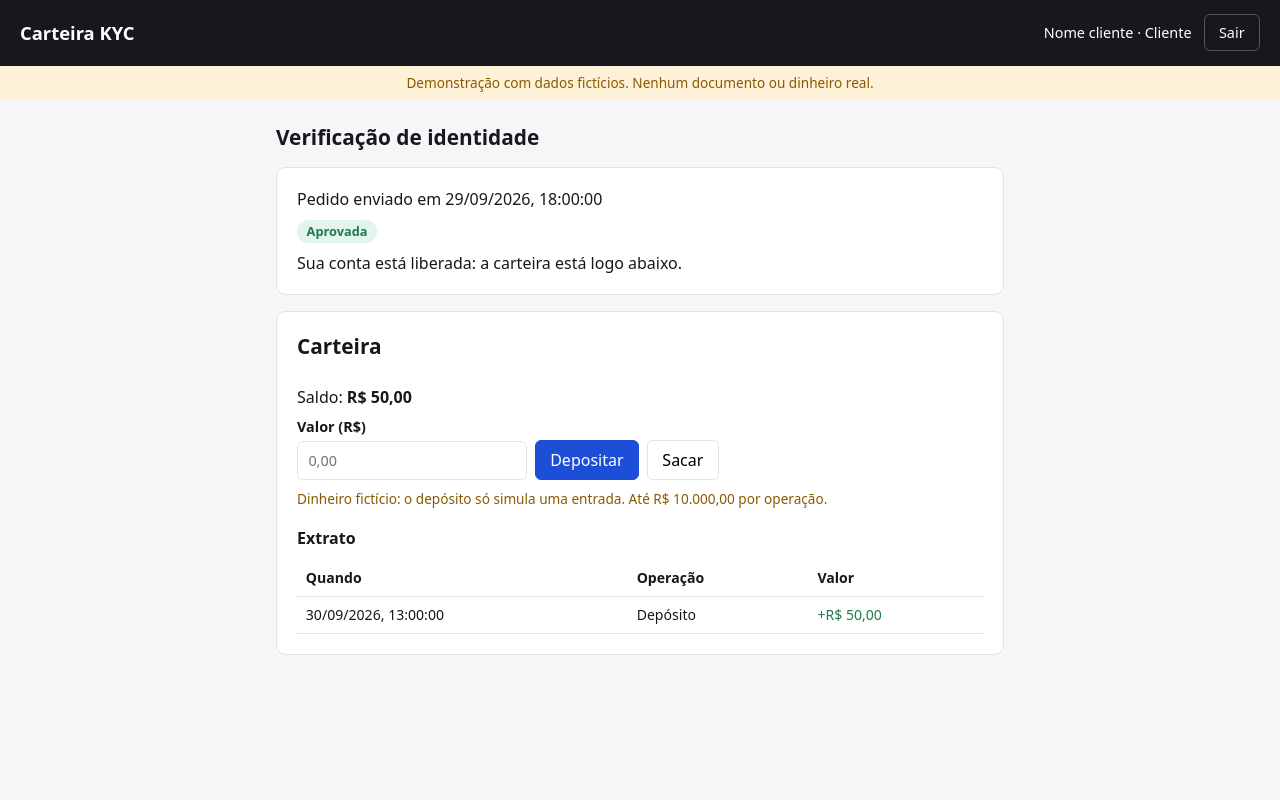
Scenario: carteira › mostra saldo e extrato, deposita com chave de idempotência e atualiza
Expected: the text with test id "saldo" shows "50,00", left=347, top=386, right=412, bottom=408
Expected: the text "Depósito" is shown, left=628, top=596, right=808, bottom=634
Type "25,50" into the field labelled "Valor (R$)" at (412, 460), box left=297, top=441, right=527, bottom=480
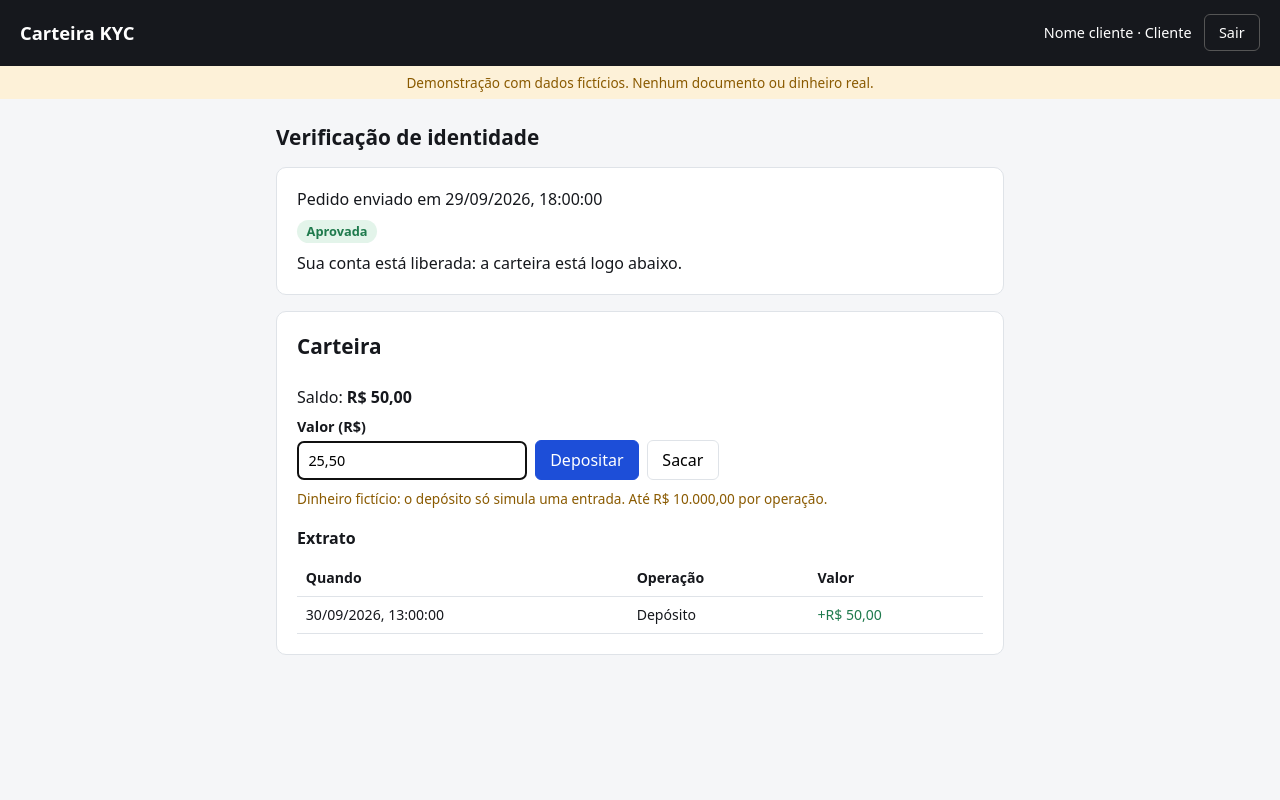
Click the button "Depositar" at (587, 460), box left=535, top=440, right=639, bottom=480
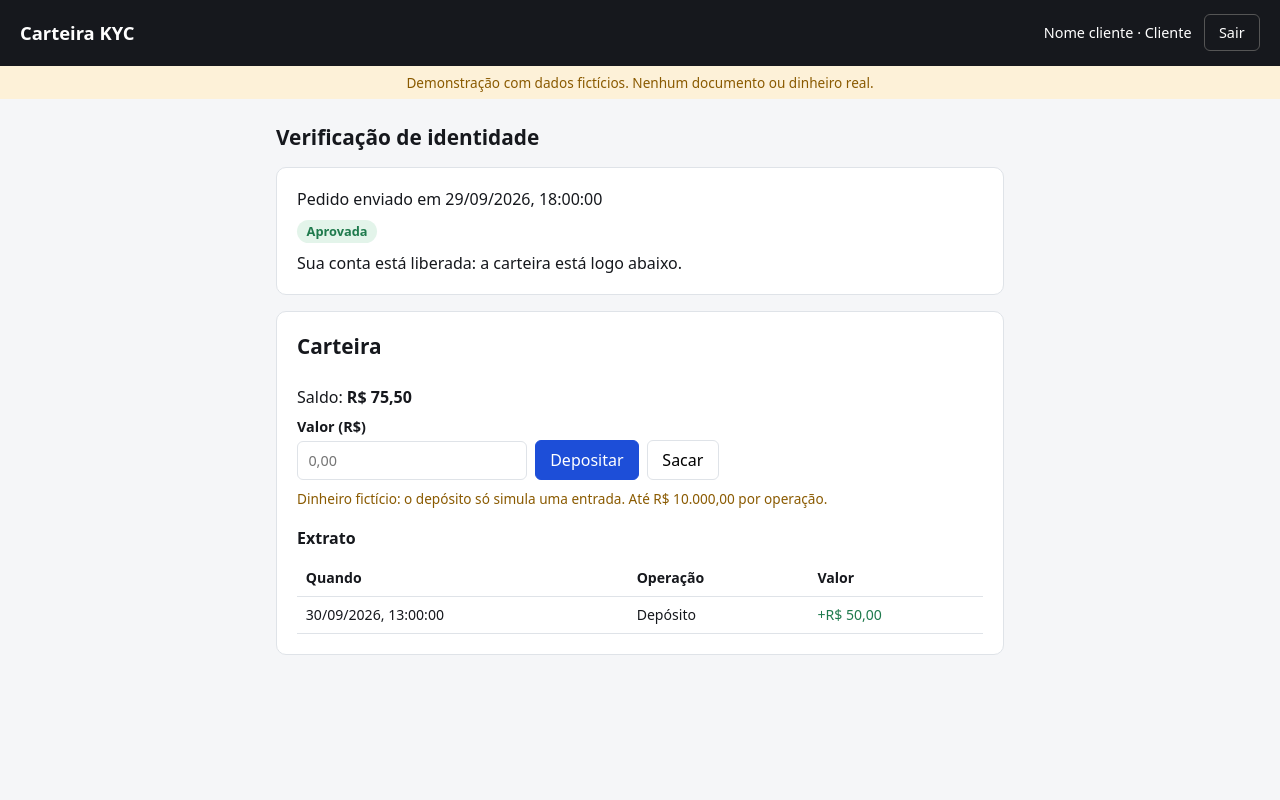
Expected: the text with test id "saldo" shows "75,50", left=347, top=386, right=412, bottom=408
Expected: the field labelled "Valor (R$)" is empty, left=297, top=441, right=527, bottom=480
